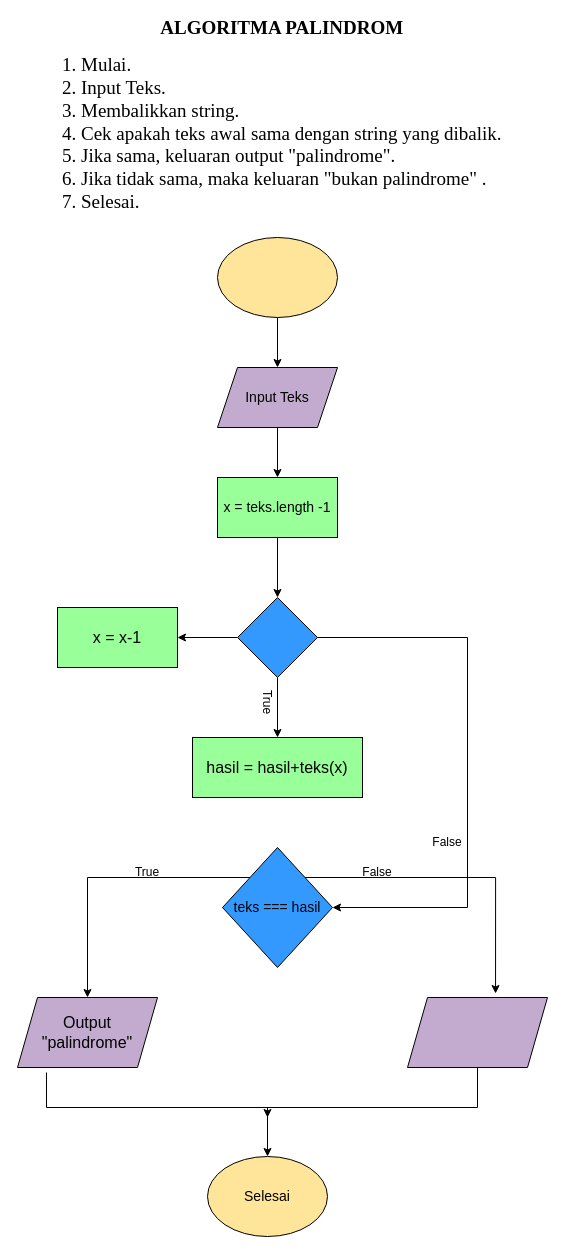
Image size: 565x1254. Some labels were removed from this diagram. The shapes that lost their labels are listed below. From the top down, each one's box as (x1, y1, x2, y2) in pixels, then its label:
(216, 236, 338, 318): Mulai
(236, 596, 318, 678): x > 0
(406, 996, 548, 1068): Output "bukan palindrome"
